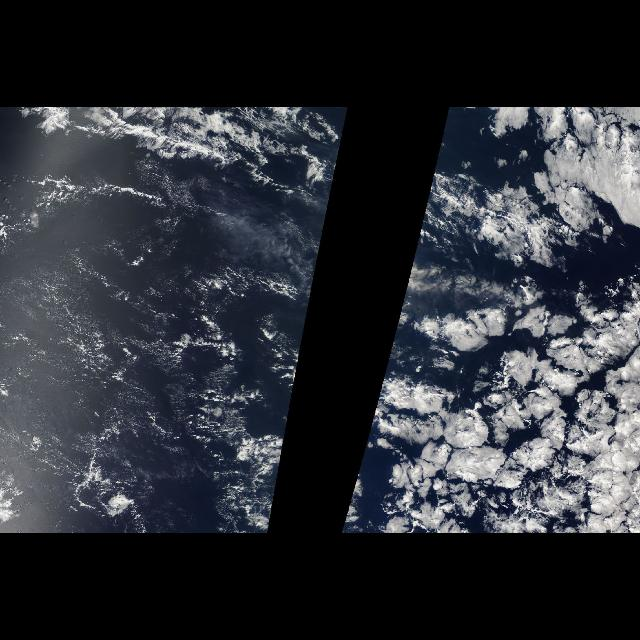Flower: (368, 111, 640, 534)
Sugar: (1, 197, 272, 533)
